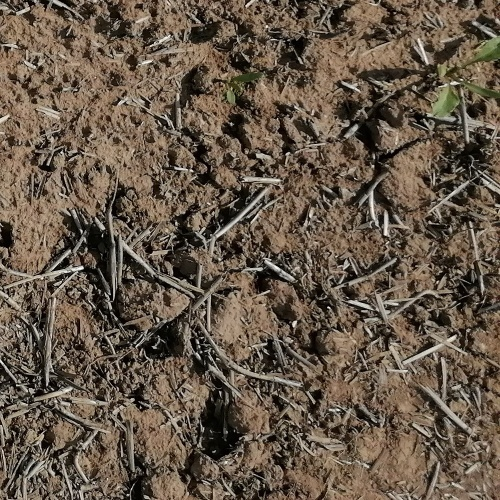beet: (432, 36, 500, 116), (224, 65, 260, 103)
